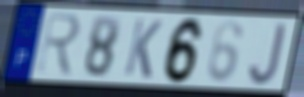6: (161, 15, 207, 85), (205, 19, 245, 85)
8: (82, 14, 121, 80)
J: (247, 21, 288, 88)
K: (122, 16, 165, 81)
R: (34, 11, 83, 79)
